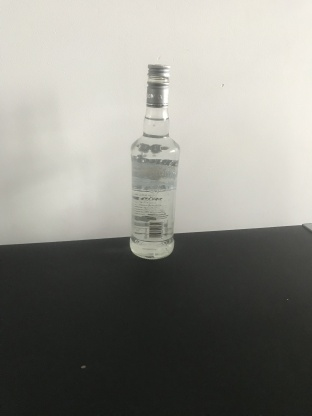nakretka: (145, 61, 171, 108)
